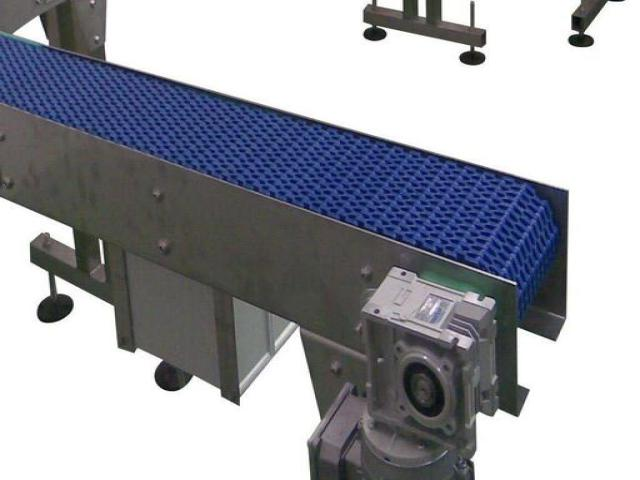conveyor: (0, 28, 579, 423)
